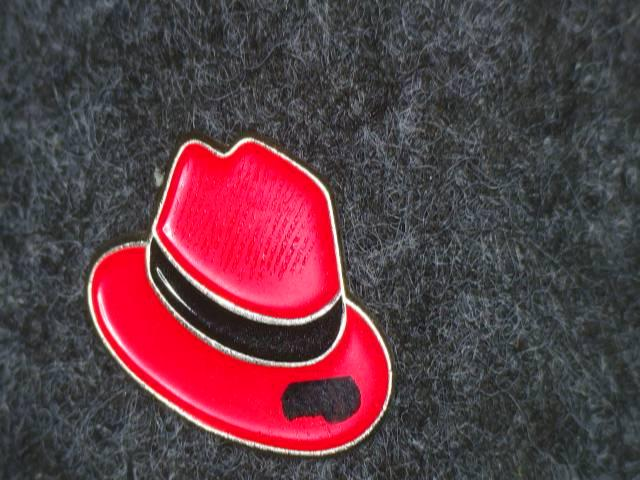Red-Hat: (33, 101, 446, 476)
Scratch: (271, 371, 364, 431)
